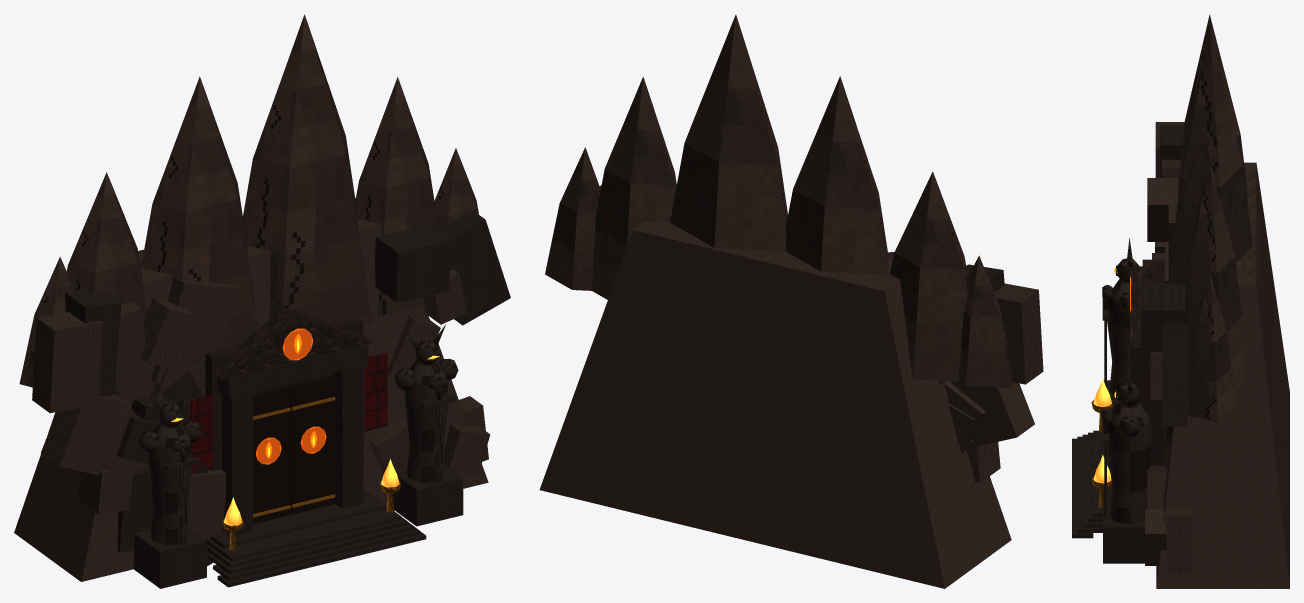
The model's file is f_tor.glb.
The picture shows the model from 3 angles, left to right: view 1: azimuth 30°, elevation 25°; view 2: azimuth 150°, elevation 25°; view 3: azimuth 270°, elevation 25°; orthographic projection.
Parts seen in each view (by area): view 1: peak2, mass, peak1, peak3, peak0, spur23, door1, spur6, gable, spur0, door-1, spur10 (+39 smaller); view 2: mass, peak2, peak1, peak0, peak3, peak5, peak4, spur23, spur22, spur5, spur4, spur2; view 3: mass, peak2, peak3, peak5, stBody1, spur0, spur6, stBody-1, plinth1, spur13, spur17, peak1 (+20 smaller).
Boxes of the visible parts, <box> form: peak2: <box>243,14,371,324</box>; mass: <box>14,198,488,581</box>; peak1: <box>141,76,258,348</box>; peak3: <box>355,77,438,315</box>; peak0: <box>66,172,154,371</box>; spur23: <box>32,312,103,413</box>; door1: <box>288,375,335,514</box>; spur6: <box>375,225,450,302</box>; gable: <box>212,307,372,379</box>; spur0: <box>437,210,510,325</box>; door-1: <box>253,386,290,523</box>; spur10: <box>151,276,238,387</box>; mass: <box>539,221,1011,588</box>; peak2: <box>670,14,787,251</box>; peak1: <box>785,76,888,274</box>; peak0: <box>890,171,967,381</box>; peak3: <box>592,77,676,299</box>; peak5: <box>545,147,600,290</box>; peak4: <box>958,255,1012,388</box>; spur23: <box>994,283,1043,384</box>; spur22: <box>951,381,1034,446</box>; spur5: <box>966,439,1000,482</box>; spur4: <box>944,381,986,440</box>; spur2: <box>948,404,974,453</box>; mass: <box>1156,162,1289,588</box>; peak2: <box>1169,29,1252,285</box>; peak3: <box>1183,159,1244,394</box>; peak5: <box>1188,272,1235,422</box>; stBody1: <box>1107,402,1152,524</box>; spur0: <box>1162,322,1187,426</box>; spur6: <box>1140,283,1184,358</box>; stBody-1: <box>1107,279,1130,396</box>; plinth1: <box>1103,504,1144,563</box>; spur13: <box>1166,508,1192,573</box>; spur17: <box>1147,178,1178,241</box>; peak1: <box>1178,14,1247,195</box>.
Bounding box in the file's own units: 80.7 × 84.27 × 32.6.
Materials: 10 (8 with a texture image).
